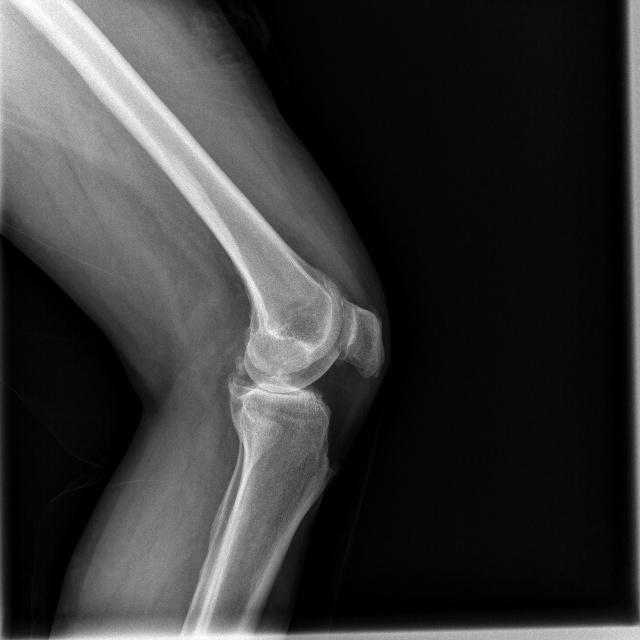Knee: (220, 261, 387, 462)
